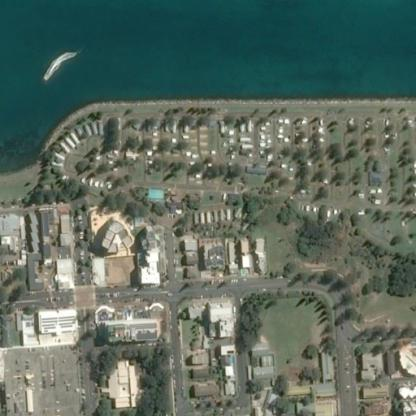ship: (42, 74, 47, 79)
